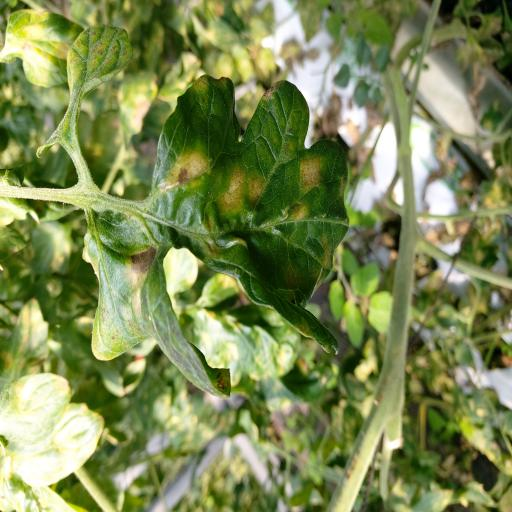Leaf Mold: (82, 74, 350, 398), (6, 8, 84, 88), (66, 22, 133, 102)
